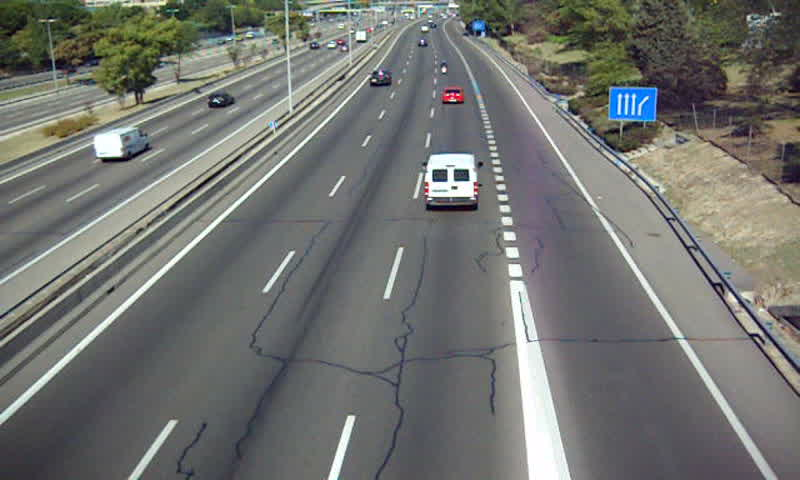car: (369, 70, 392, 87), (441, 87, 463, 104)
motorcycle: (438, 61, 450, 74)
van: (424, 153, 479, 208)
